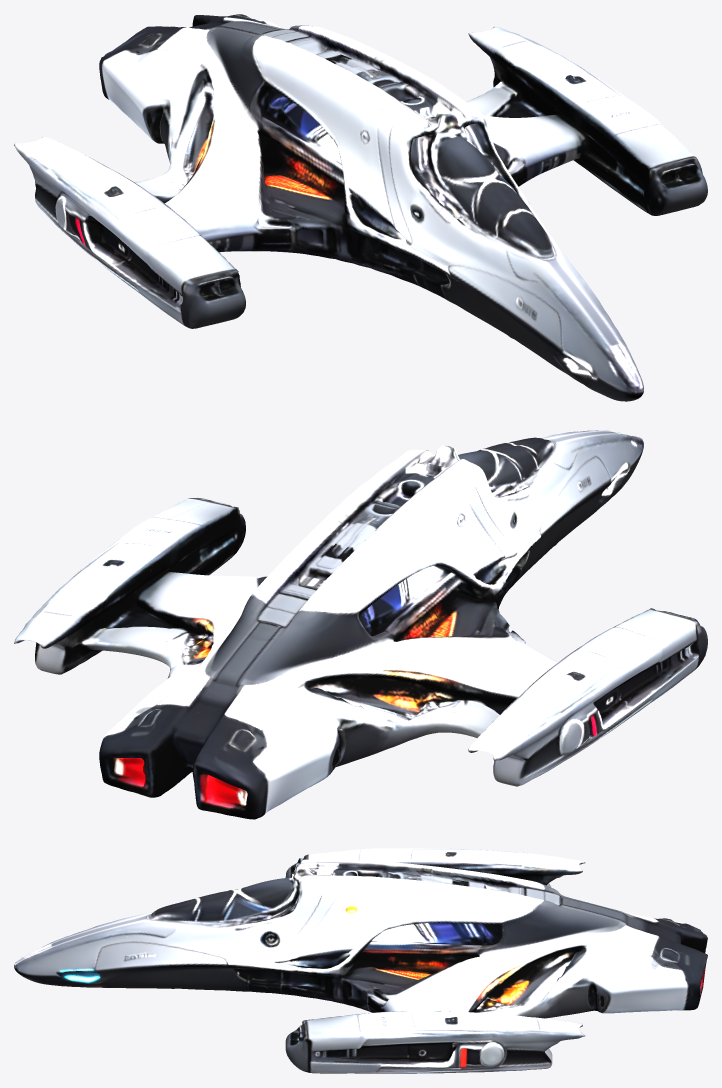
The picture shows the model from 3 angles, top to bottom: view 1: azimuth 30°, elevation 25°; view 2: azimuth 150°, elevation 25°; view 3: azimuth 270°, elevation 25°; orthographic projection. The views are drawn at different scales.
Parts seen in each view (by area): view 1: model; view 2: model; view 3: model.
Part boxes in pixels (box(x1,y1,x2,y2)): model: box(14, 14, 707, 401); model: box(14, 430, 707, 819); model: box(14, 848, 707, 1073).
Bounding box in the file's own units: 1.13 × 0.3319 × 1.77.
1 material, 1 textured.
